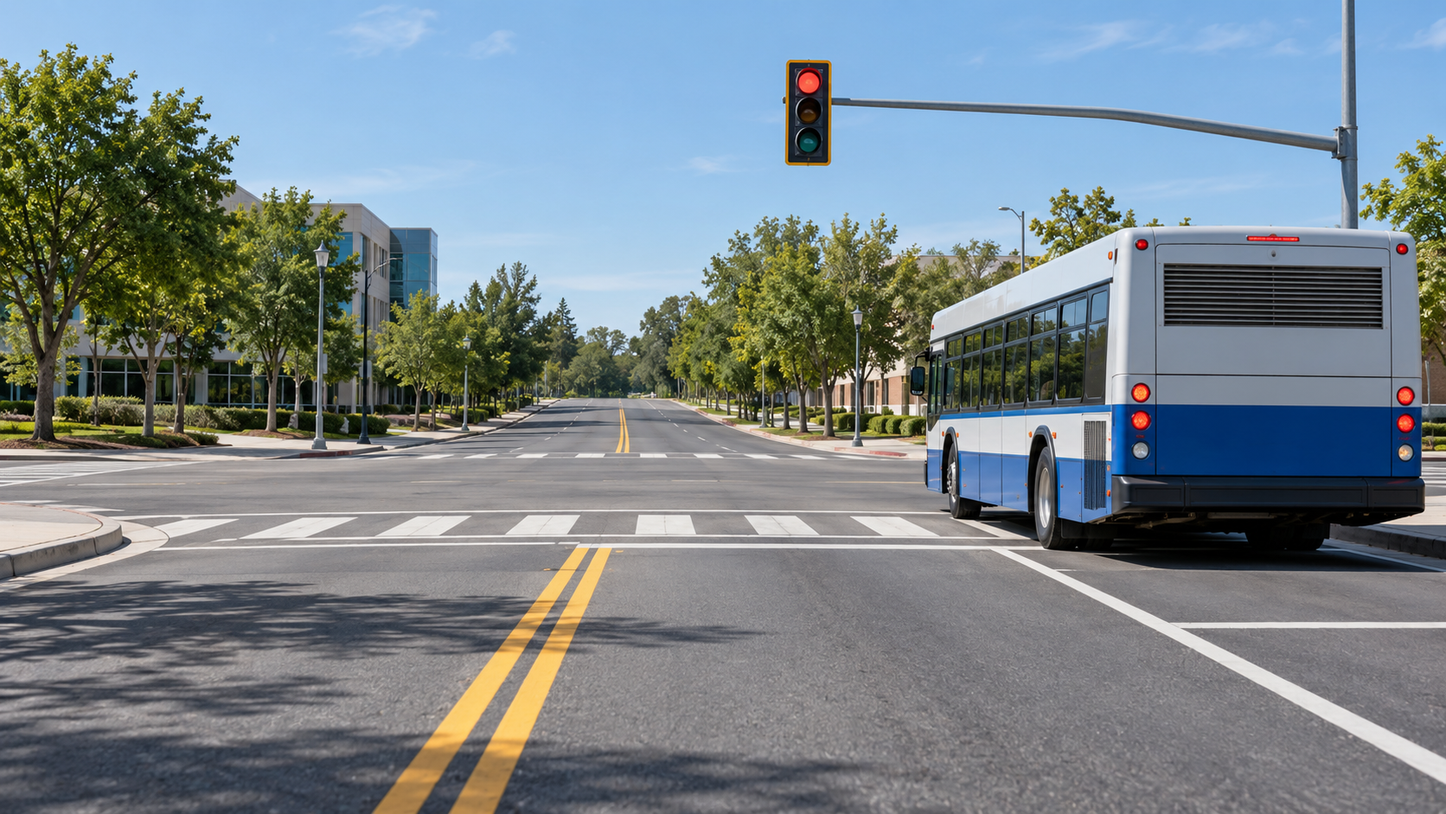traffic_light: (787, 60, 832, 163)
truck: (922, 228, 1425, 550)
zebra_crossing: (0, 497, 951, 544)
